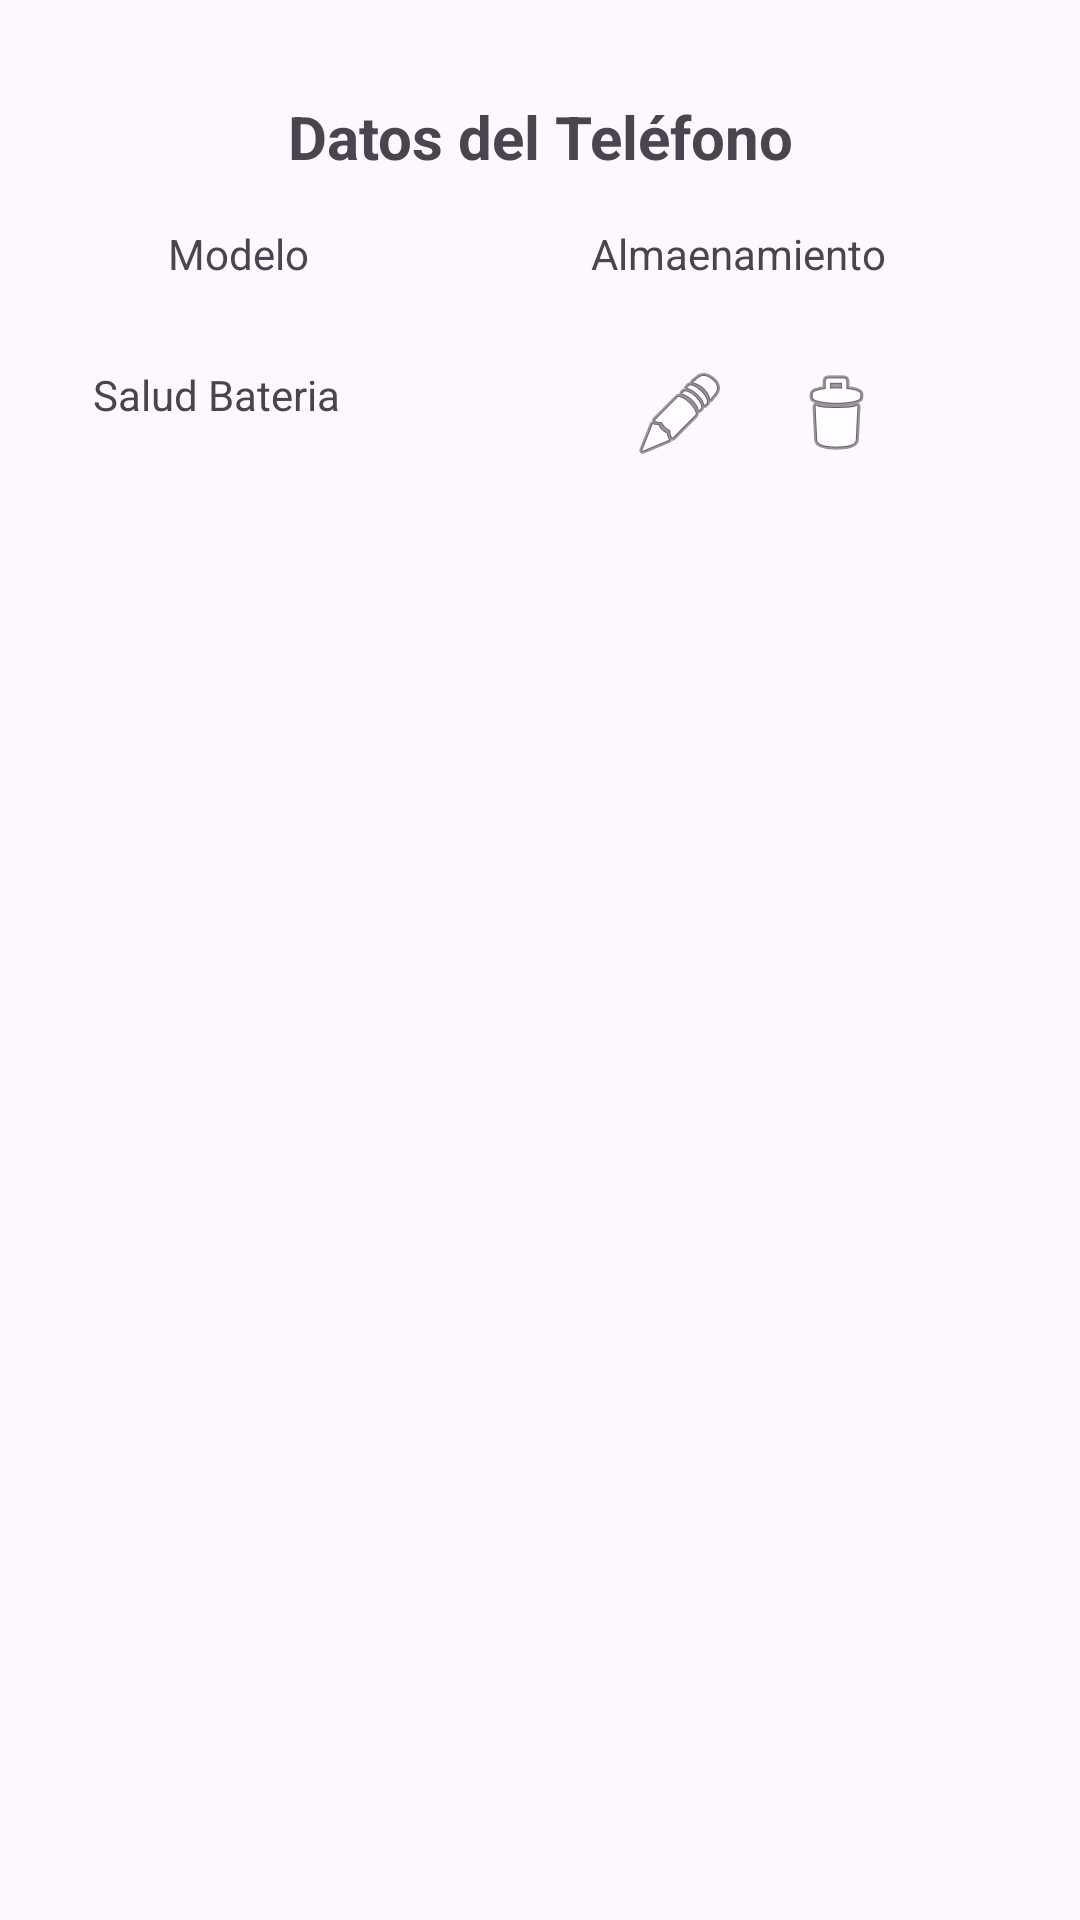

Where to tap for icons on this 1080 × 1920 app screen, as (x,y):
delete: (836,412)
edit: (679,413)
